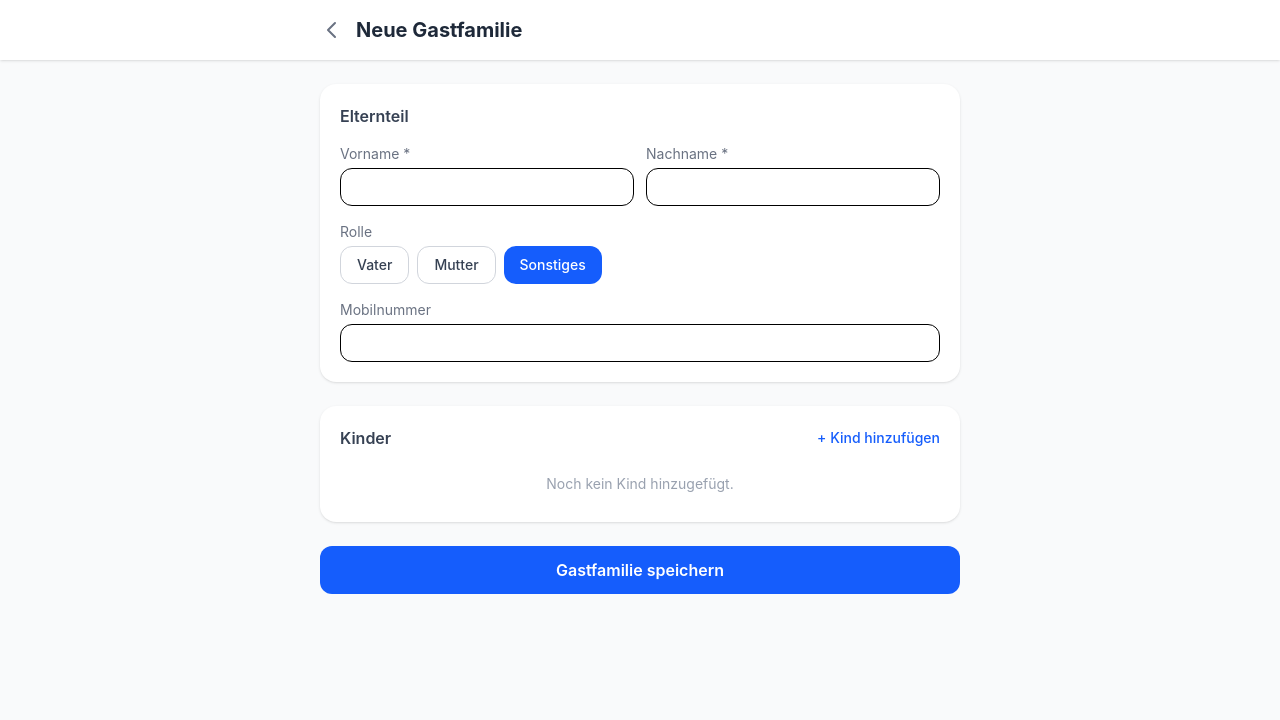
Test: NewGuestView – validation: parent name › shows error when last name is empty on submit
Type "Anna" into the field below "Vorname *". click: x=487, y=187
box: [340, 168, 634, 206]
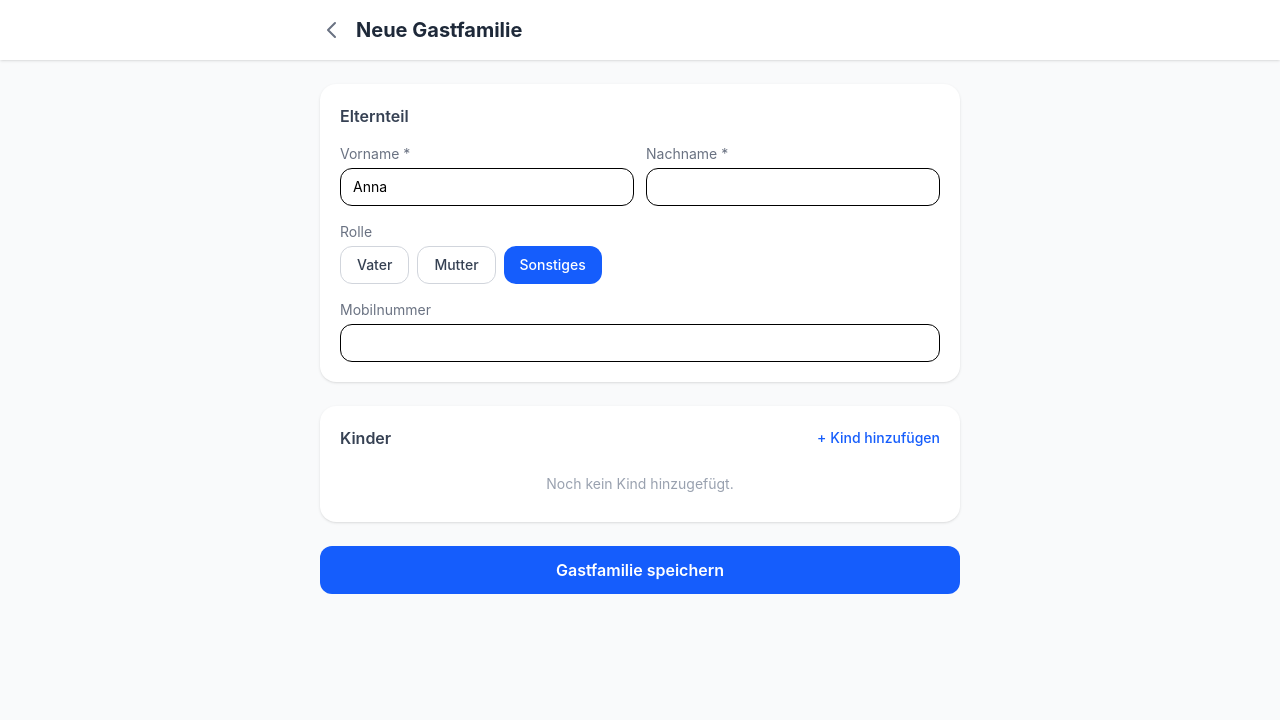
Click the button "Gastfamilie speichern". click: x=640, y=570
box: [320, 546, 960, 594]
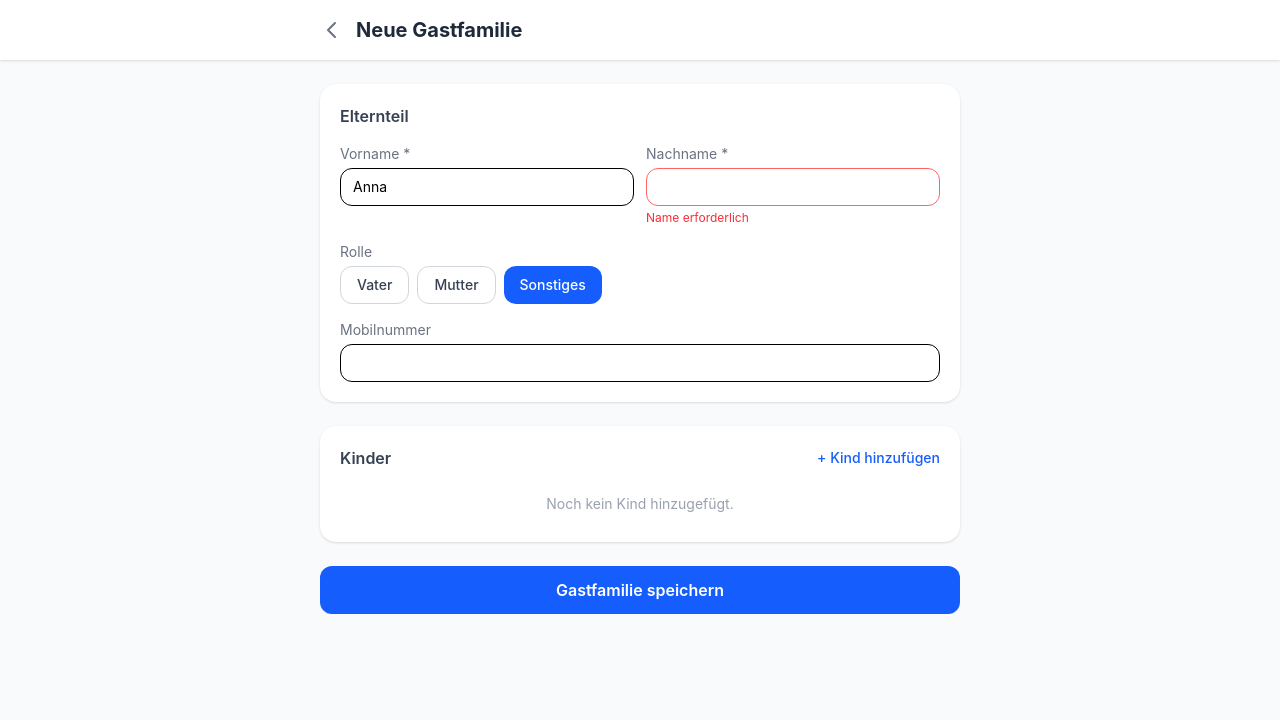
Now the text "Name erforderlich" is shown, box [646, 210, 749, 225]
